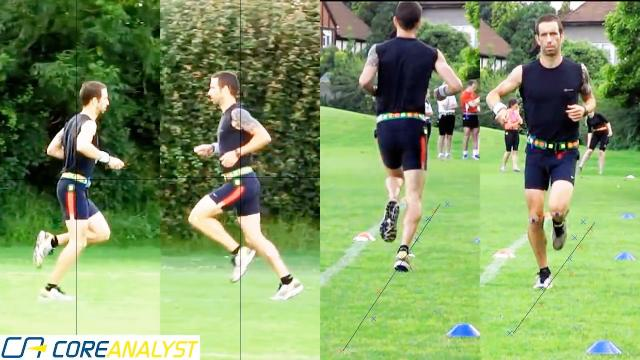berlari: (483, 12, 599, 304), (178, 65, 304, 304), (359, 0, 465, 280), (23, 75, 125, 311)
